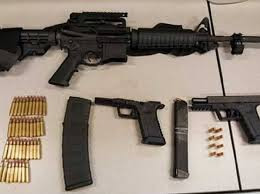gun: (1, 9, 257, 84), (93, 94, 167, 148), (188, 91, 259, 145)
